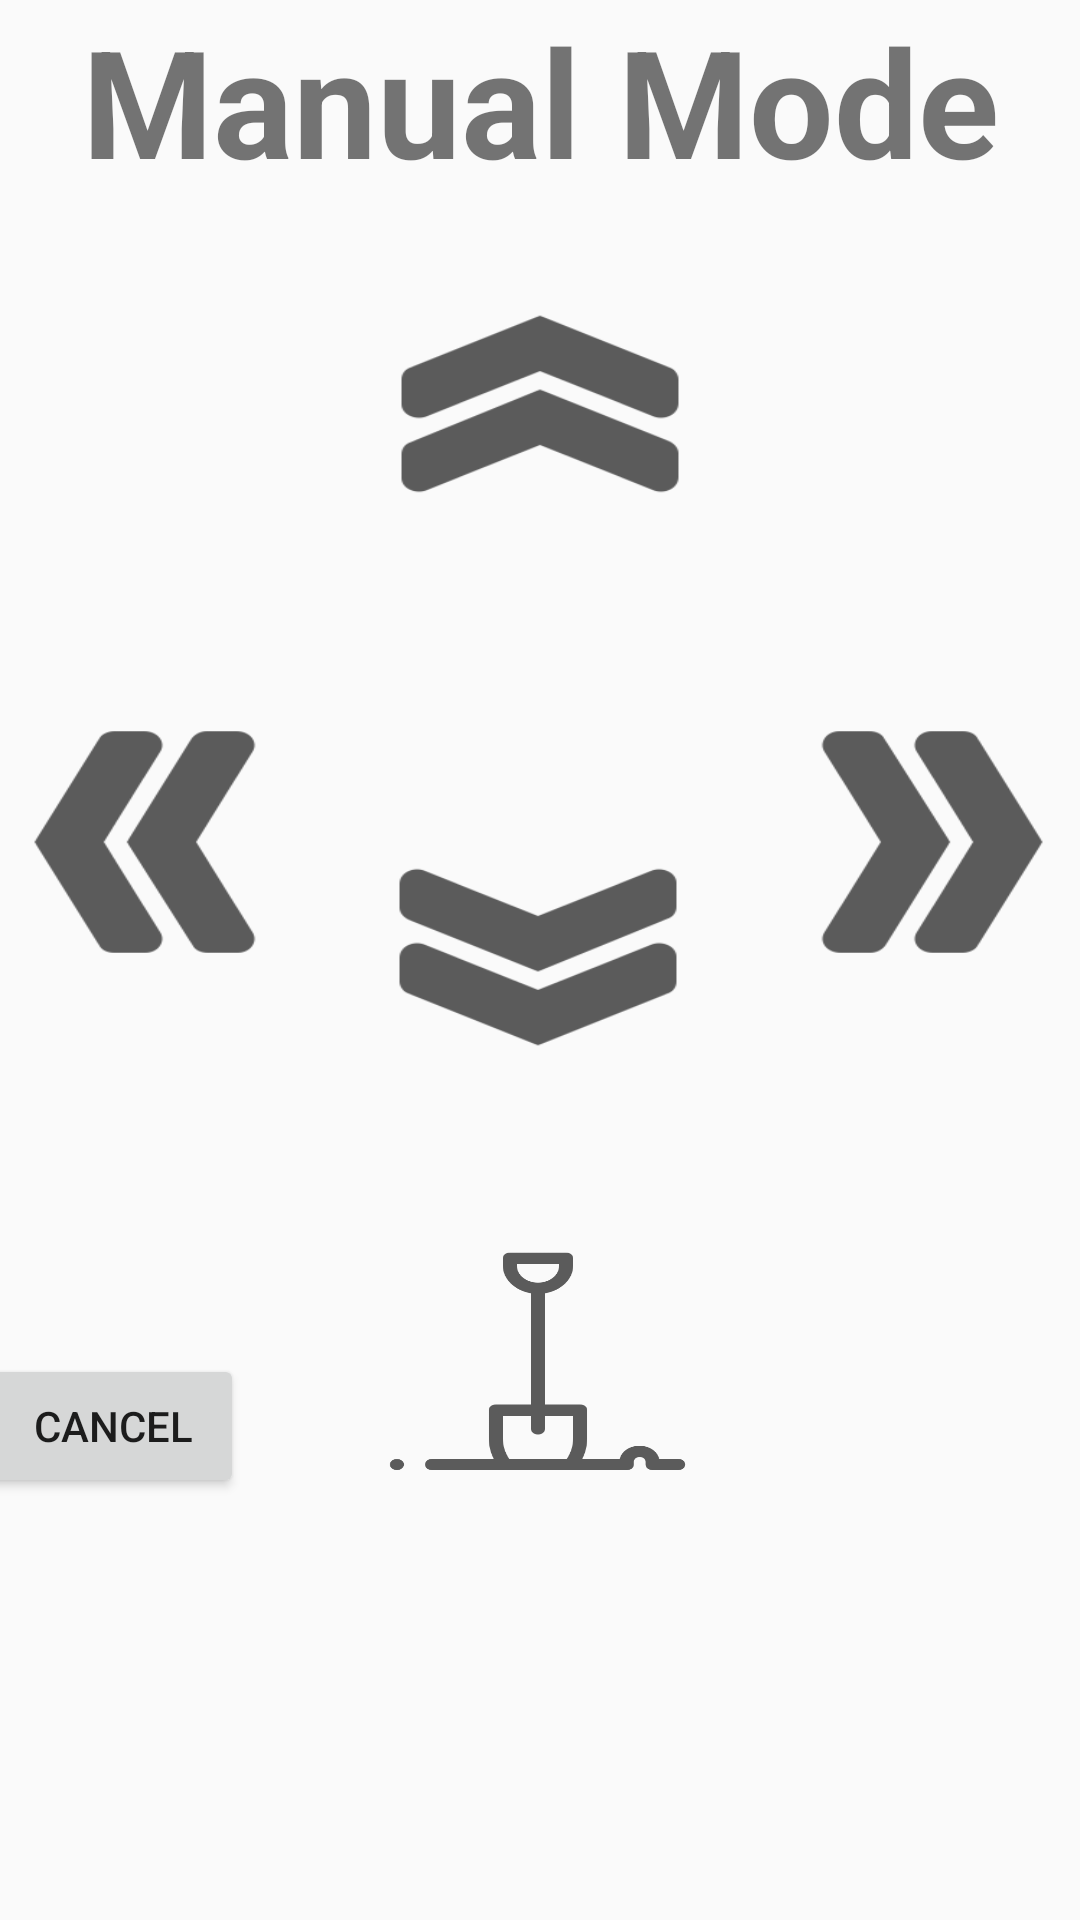

Where icons sit on this 1080x1920 app screen, as (x1, y1, x2, y2):
backword: (399, 869, 677, 1046)
forward: (401, 315, 679, 492)
left: (34, 731, 256, 953)
right: (821, 731, 1043, 953)
